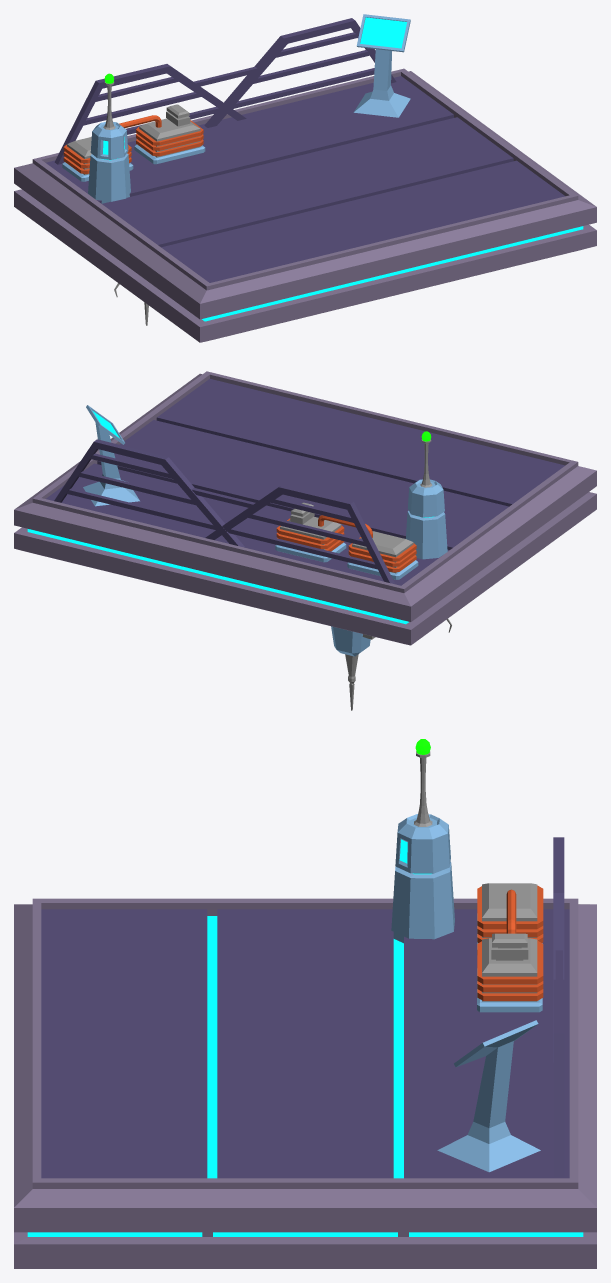
The model's file is PLATAFORM.fbx.
3 views of the same model, one above another, from view 1: azimuth 30°, elevation 25°; view 2: azimuth 150°, elevation 25°; view 3: azimuth 270°, elevation 25° (orthographic). The views are drawn at different scales.
Parts seen in each view (by area): view 1: Cube.018, Cube.017, Cube.003, Cube.007, Cylinder.009, Cube.016; view 2: Cube.017, Cube.018, Cube.003, Cylinder.009, Cube.016, Cube.007; view 3: Cube.018, Cube.017, Cube.003, Cube.007, Cylinder.009, Cube.016.
Part boxes in pixels (box(x1,y1,x2,y2)): Cube.018: box(45, 76, 564, 282); Cube.017: box(14, 18, 596, 342); Cube.003: box(62, 14, 410, 203); Cube.007: box(100, 17, 583, 321); Cylinder.009: box(67, 82, 200, 325); Cube.016: box(63, 115, 203, 173); Cube.017: box(14, 371, 596, 645); Cube.018: box(46, 379, 565, 585); Cube.003: box(83, 405, 447, 656); Cylinder.009: box(280, 439, 451, 710); Cube.016: box(276, 515, 416, 572); Cube.007: box(27, 410, 434, 624); Cube.018: box(41, 909, 569, 1178); Cube.017: box(14, 837, 596, 1268); Cube.003: box(391, 814, 542, 1172); Cube.007: box(27, 839, 583, 1236); Cylinder.009: box(414, 751, 537, 1001); Cube.016: box(477, 885, 543, 1000).
Bounding box in the file's own units: 994 × 667 × 806.
